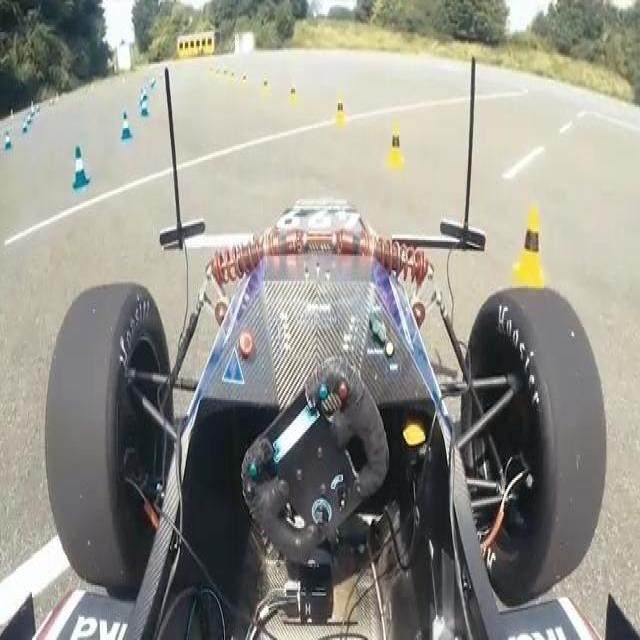blue_cone: (72, 146, 90, 189), (121, 110, 134, 141)
yellow_cone: (513, 207, 546, 290), (385, 121, 406, 168)
